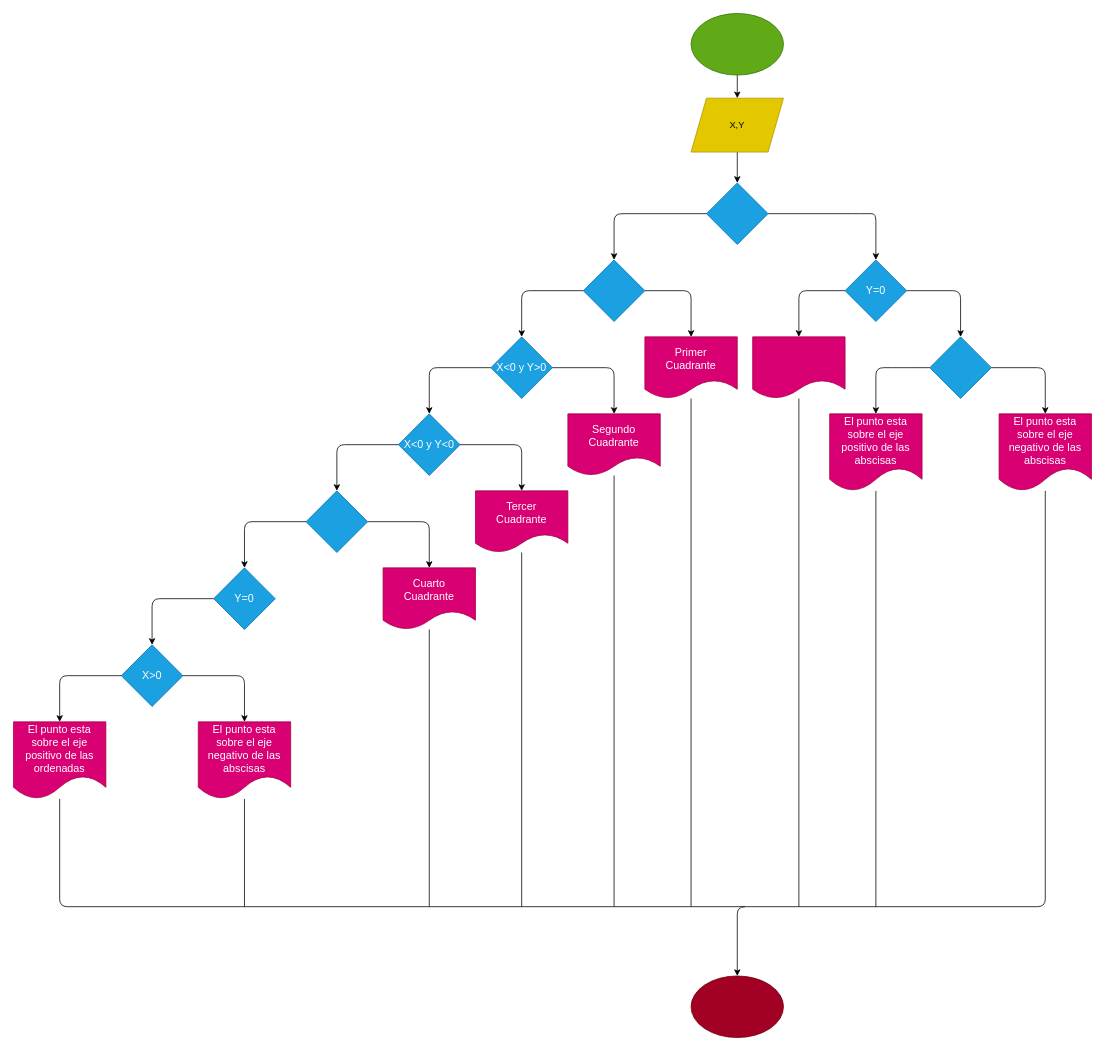
Image size: 1105x1051. Some labels were removed from this diagram. Here are the shapes that lost their labels. From the top down, the box of each, then its label:
(690, 13, 783, 75): INICIO
(706, 182, 768, 244): X=0
(583, 259, 645, 321): X>0 y Y>0
(752, 336, 845, 398): El punto esta en el origen
(929, 336, 991, 398): Y>0
(305, 490, 368, 552): X>0 y Y<0
(690, 975, 783, 1038): FIN
